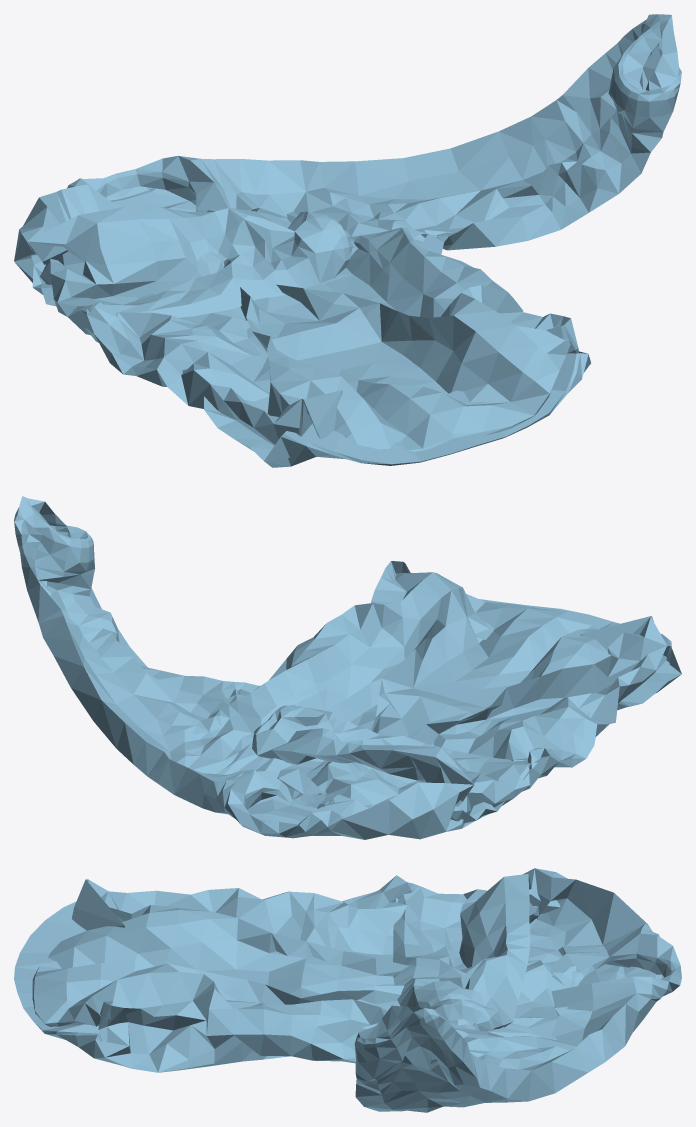
The model's file is frame_03.glb.
The picture shows the model from 3 angles, top to bottom: view 1: azimuth 30°, elevation 25°; view 2: azimuth 150°, elevation 25°; view 3: azimuth 270°, elevation 25°; orthographic projection. The views are drawn at different scales.
Visible parts, largest first — view 1: frame_03.obj; view 2: frame_03.obj; view 3: frame_03.obj.
Boxes of the visible parts, x1,y1,x2,y2 form: frame_03.obj: (14,14,681,467); frame_03.obj: (14,496,681,839); frame_03.obj: (14,868,681,1112).
Bounding box in the file's own units: 1.54 × 0.5198 × 1.59.
